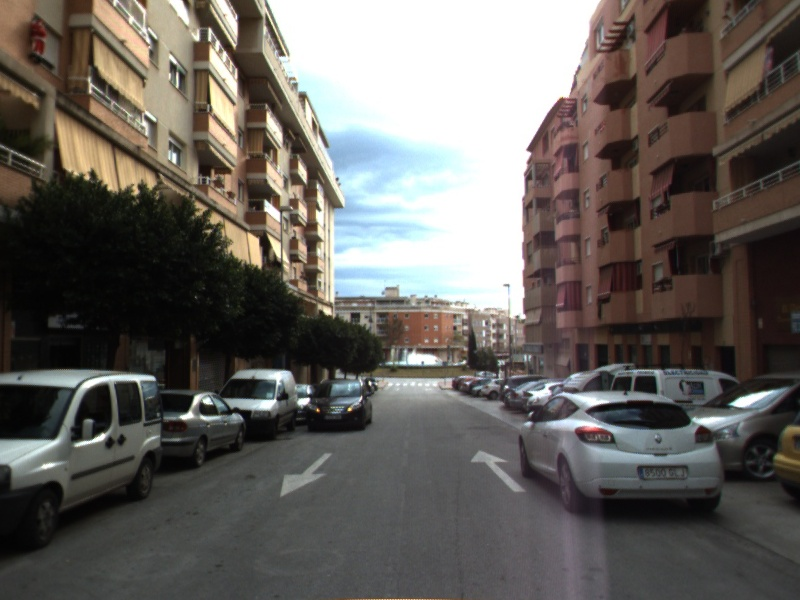STRAIGHT: (469, 448, 528, 494)
